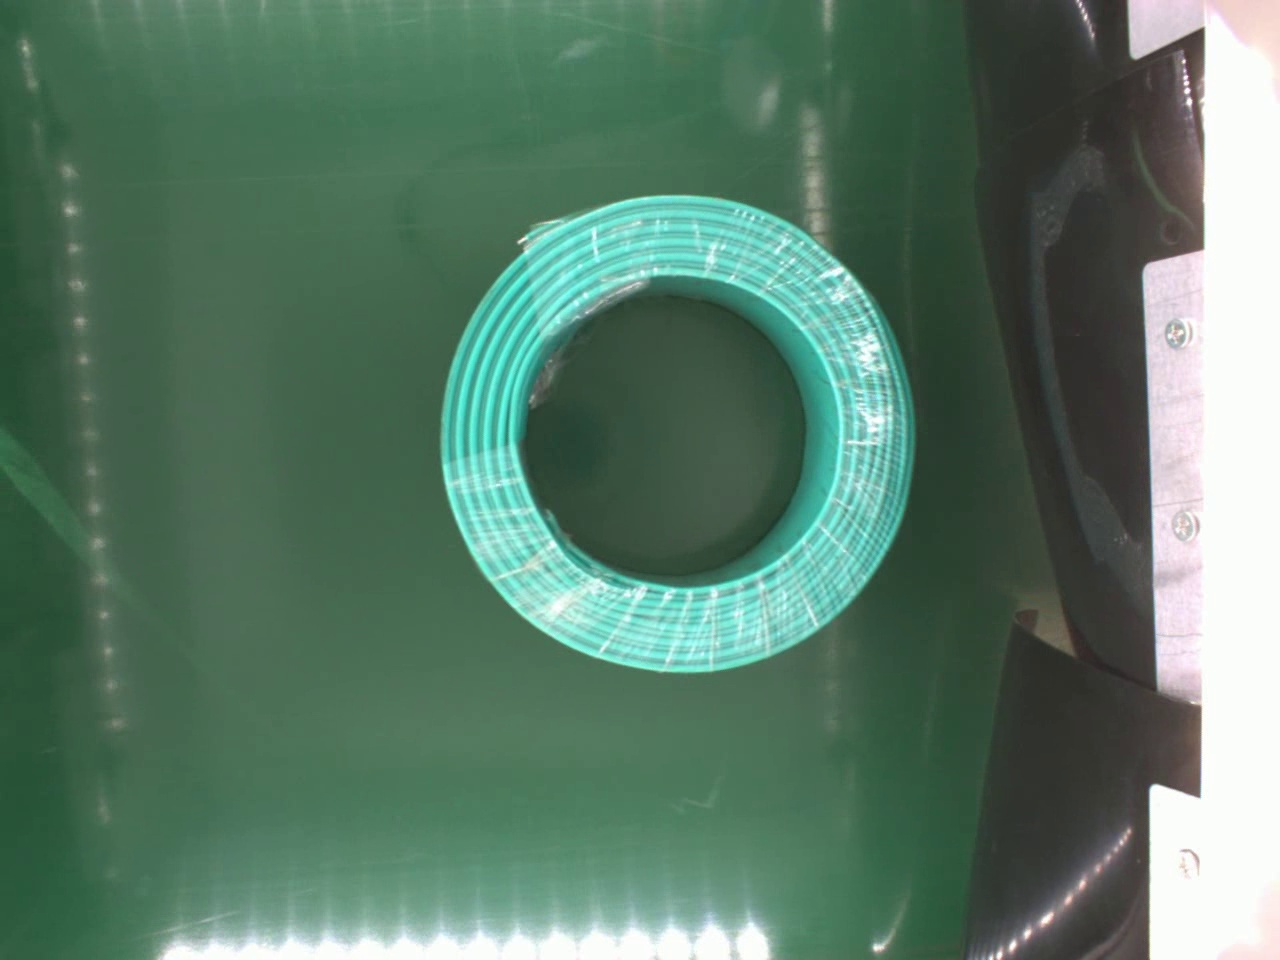green: (430, 179, 921, 673)
